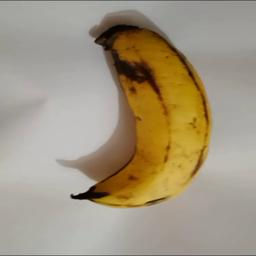Banana Semifresh: (69, 22, 212, 213)
